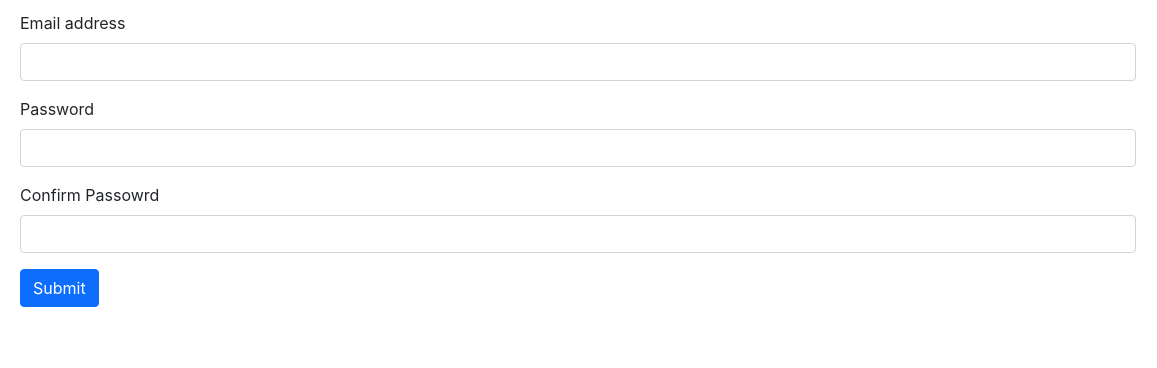
APP component tests › should show conform password error if passwords don't match
Type "selena@gmail.com" into the field labelled "Email address" at (578, 62), box 20,43 -> 1136,81
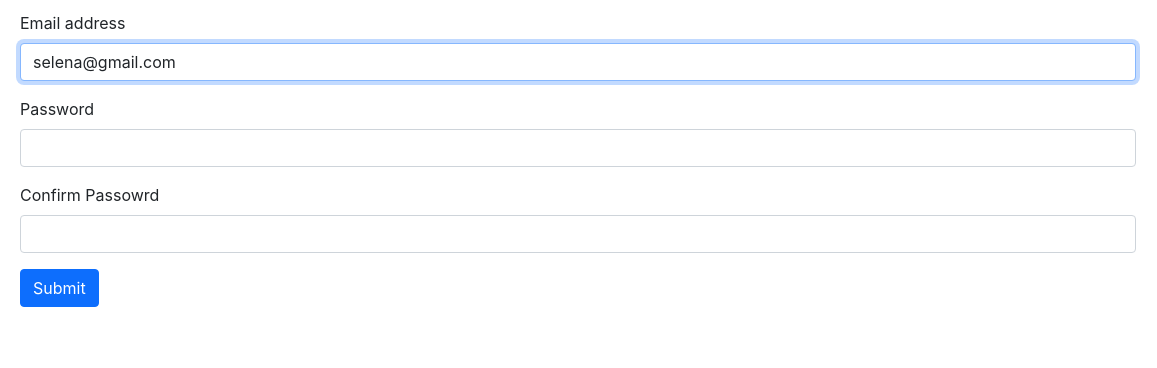
Type "123456" into the password field labelled "Password" at (578, 148), box 20,129 -> 1136,167
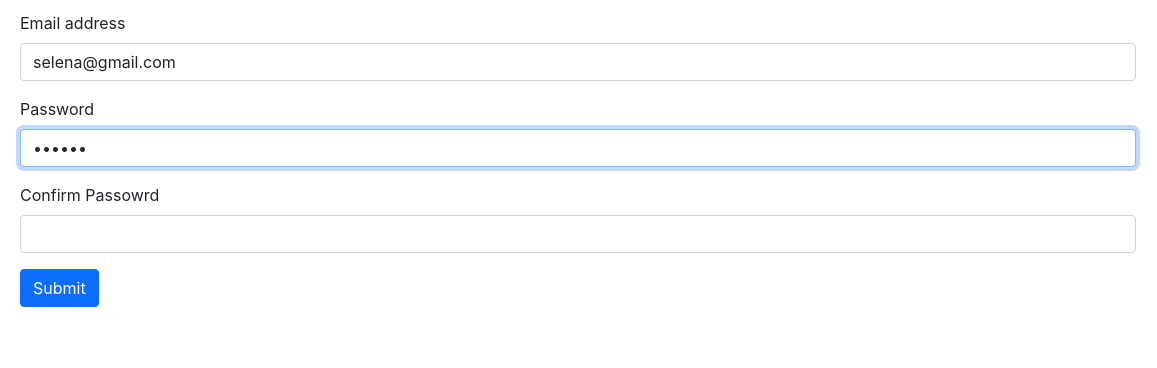
Type "1234567" into the field labelled "Confirm Passowrd" at (578, 234), box 20,215 -> 1136,253
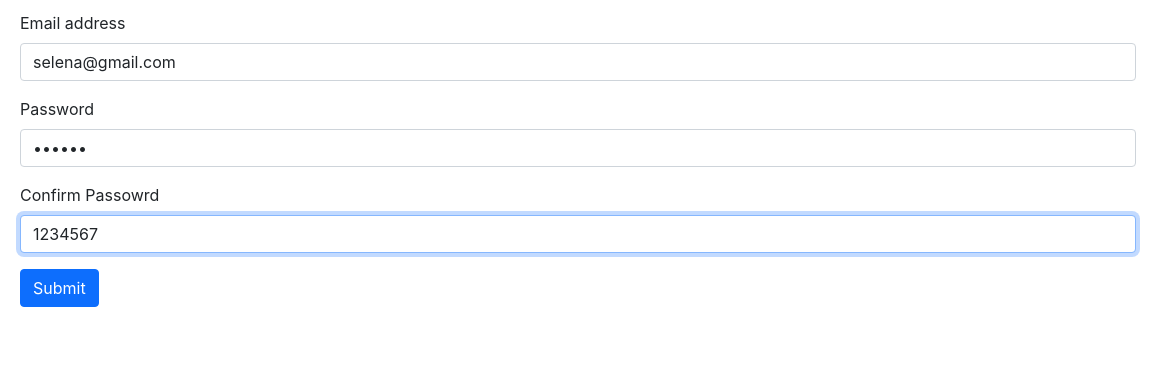
Click the button "Submit" at (59, 288), box 20,269 -> 99,307
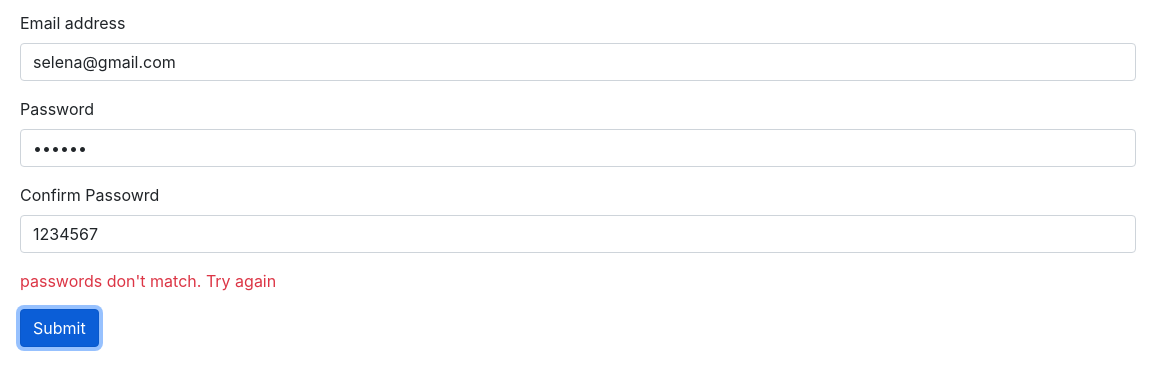
Expected: the text "passwords don't match. Try again" is shown, 20,271 -> 276,291
